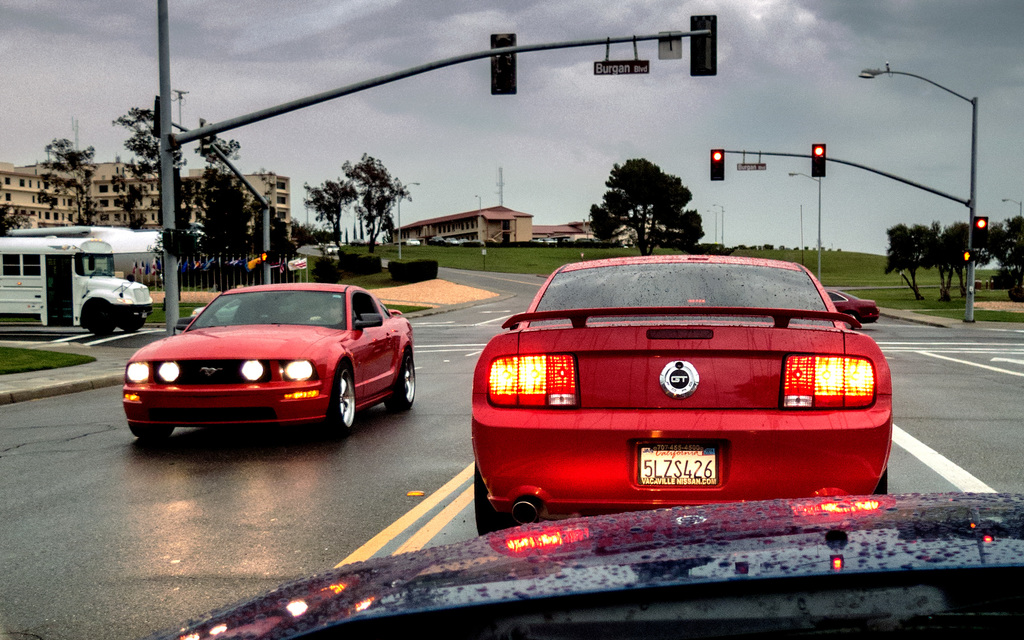license plate: (640, 445, 713, 484)
